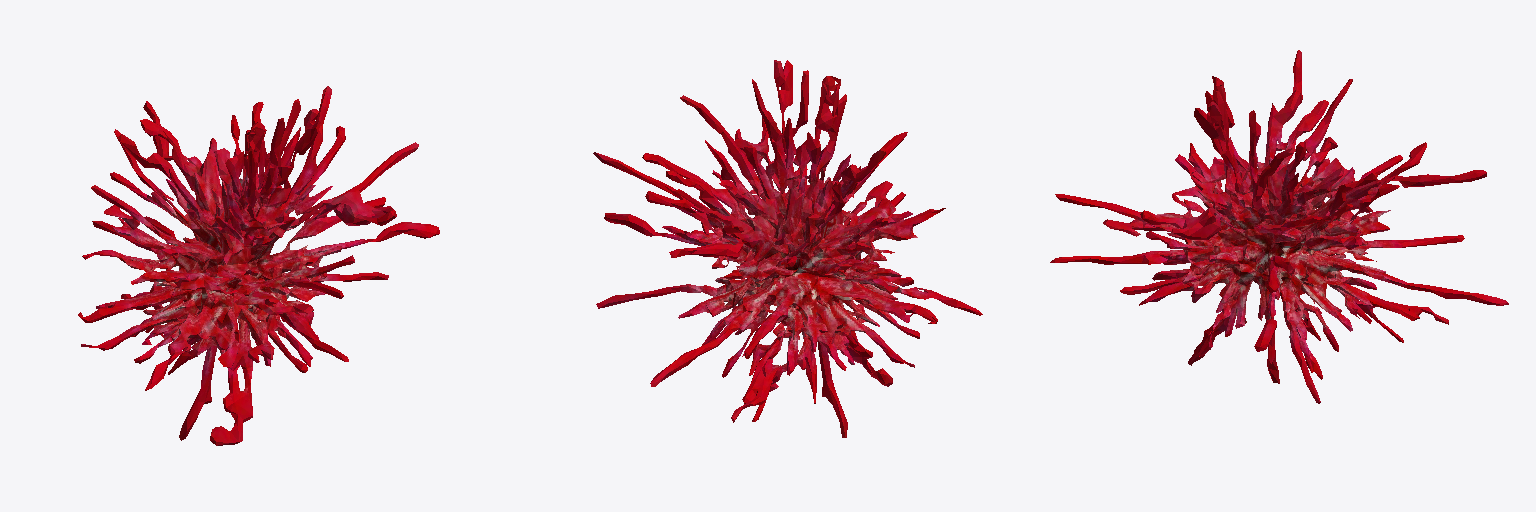
3 renders of one model, left to right at view 1: azimuth 30°, elevation 25°; view 2: azimuth 150°, elevation 25°; view 3: azimuth 270°, elevation 25°, orthographic.
Parts seen in each view (by area): view 1: mesh; view 2: mesh; view 3: mesh.
Part boxes in pixels (left/top/right/bottom): mesh: left=78, top=86, right=439, bottom=445; mesh: left=593, top=60, right=982, bottom=437; mesh: left=1050, top=50, right=1508, bottom=403.
Size of the model in its own units: 0.8709 by 0.7924 by 1.
1 materials, 1 textured.